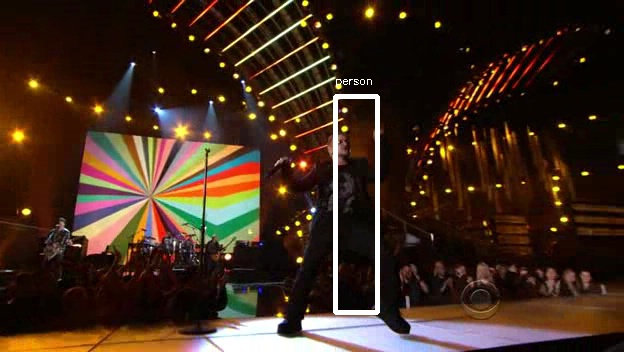person: (310, 131, 376, 251), (307, 131, 373, 251), (313, 131, 379, 251), (310, 128, 376, 248), (310, 134, 376, 254)
target_negative: (69, 24, 573, 297), (376, 236, 580, 294), (134, 309, 343, 336), (120, 186, 205, 197), (36, 192, 242, 194), (614, 243, 621, 245)
